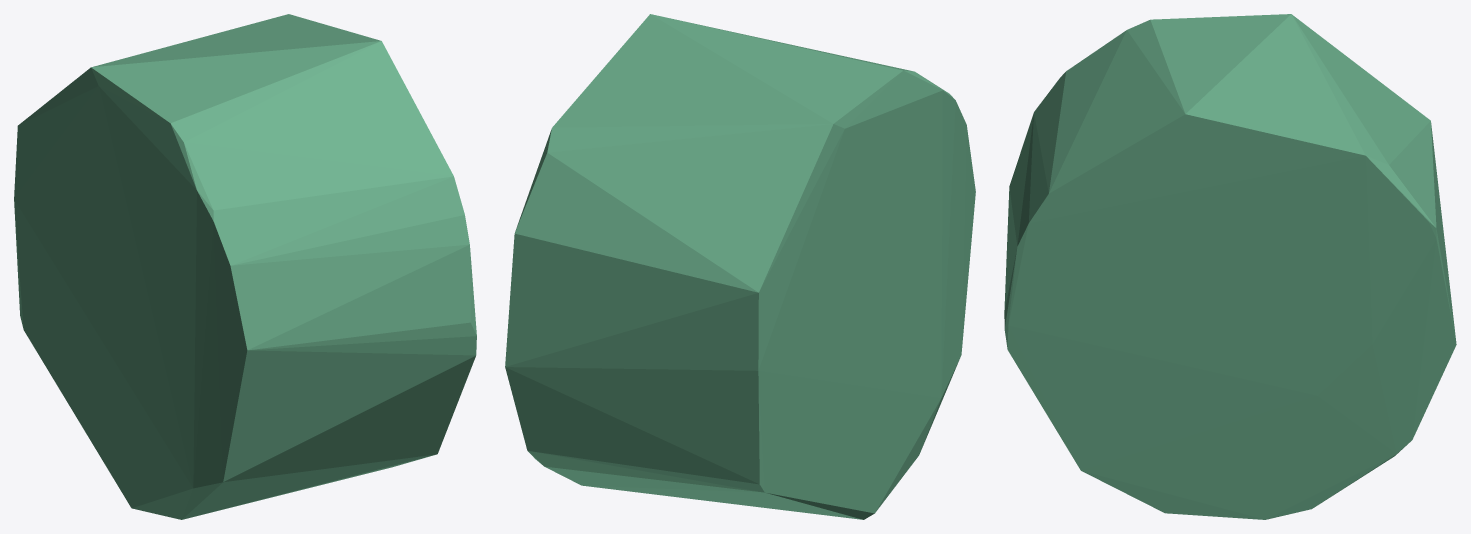
Rendered from wheelAssembly_wheel_rim_c01.glb.
3 renders of one model, left to right at view 1: azimuth 30°, elevation 25°; view 2: azimuth 150°, elevation 25°; view 3: azimuth 270°, elevation 25°, orthographic. The views are drawn at different scales.
Visible parts, largest first — view 1: geometry_0; view 2: geometry_0; view 3: geometry_0.
Part boxes in pixels (box(x1,y1,x2,y2)): geometry_0: box(14, 14, 476, 519); geometry_0: box(505, 14, 975, 519); geometry_0: box(1004, 14, 1456, 519).
Bounding box in the file's own units: 0.2795 × 0.4723 × 0.4773.
